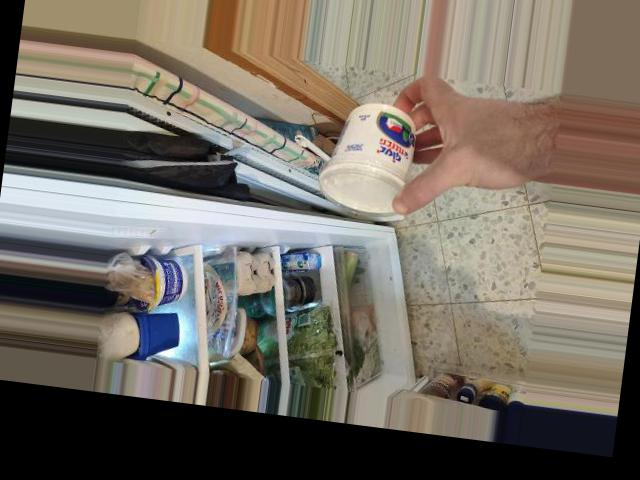cotage: (312, 93, 437, 224)
